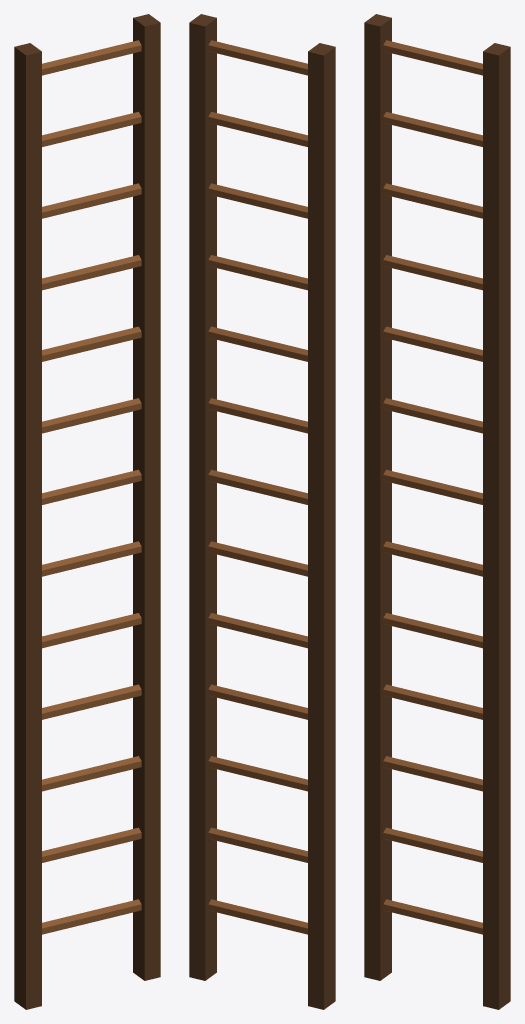
The model's file is mine_ladder.glb.
The picture shows the model from 3 angles, left to right: view 1: azimuth 30°, elevation 25°; view 2: azimuth 150°, elevation 25°; view 3: azimuth 330°, elevation 25°; orthographic projection.
Visible parts, largest first — view 1: mine_ladder; view 2: mine_ladder; view 3: mine_ladder.
Part boxes in pixels (x1,y1,x2,y2): mine_ladder: (14, 14, 160, 1009); mine_ladder: (189, 14, 335, 1009); mine_ladder: (364, 14, 510, 1009).
Size of what is drawn, in the model's own units: 0.59 by 4 by 0.09.
